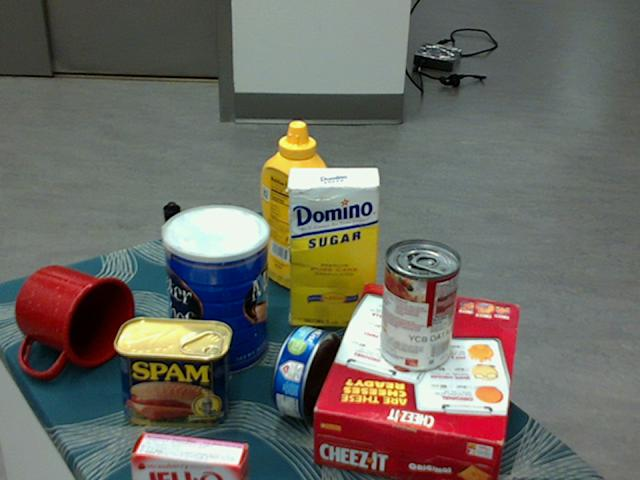cracker_box: (312, 285, 518, 479)
gelatin_box: (128, 430, 244, 479)
large_marker: (163, 201, 182, 301)
master_chef_can: (162, 205, 269, 377)
mug: (15, 264, 134, 376)
mustard_bottle: (259, 121, 331, 294)
potted_meat_can: (113, 316, 231, 426)
sugar_box: (287, 167, 379, 328)
tomato_soup_can: (377, 240, 460, 373)
tuna_fish_can: (272, 326, 341, 422)
